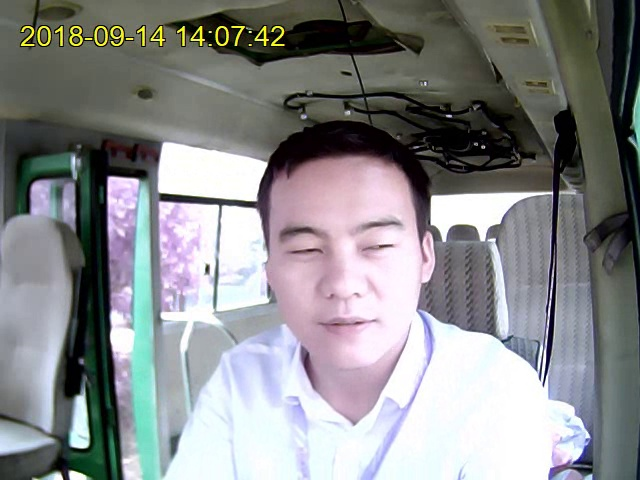closed_mouth: (318, 307, 382, 335)
